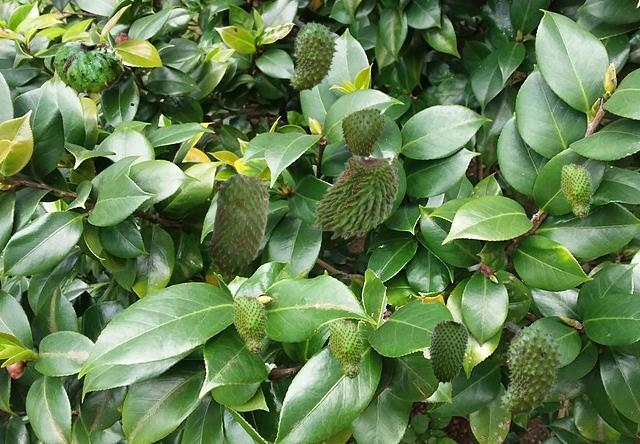guyabano: (312, 152, 398, 238), (207, 172, 269, 276), (499, 322, 564, 417), (53, 41, 123, 96), (288, 19, 338, 92), (429, 319, 467, 383), (341, 107, 385, 155), (232, 294, 267, 354), (328, 318, 363, 378), (560, 163, 592, 218)
